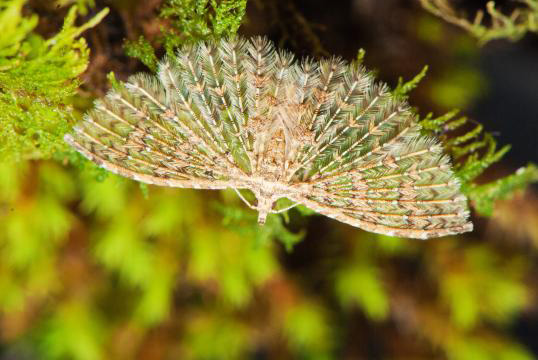Alucitidae: (57, 26, 476, 247)
moth: (59, 28, 478, 249)
